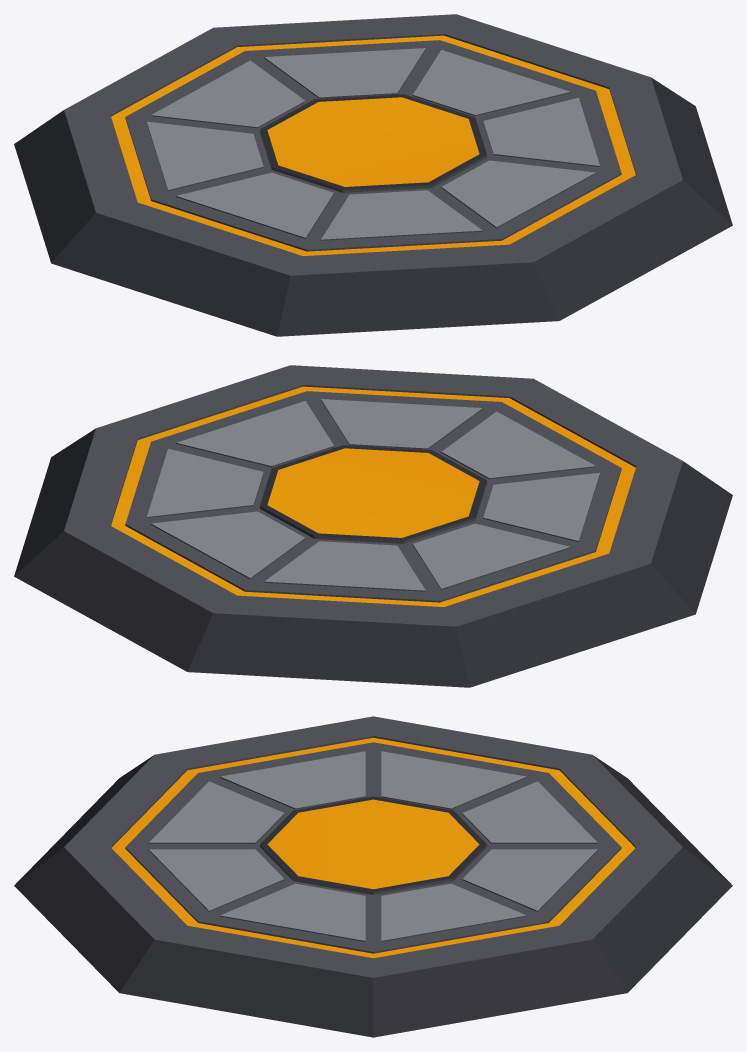
File: SpaceShipBase_01.glb
3 renders of one model, top to bottom at view 1: azimuth 30°, elevation 25°; view 2: azimuth 150°, elevation 25°; view 3: azimuth 270°, elevation 25°, orthographic. The views are drawn at different scales.
Visible parts, largest first — view 1: SpaceShipBase_01; view 2: SpaceShipBase_01; view 3: SpaceShipBase_01.
Part boxes in pixels (left/top/right/bottom): SpaceShipBase_01: left=14, top=14, right=732, bottom=336; SpaceShipBase_01: left=14, top=365, right=732, bottom=687; SpaceShipBase_01: left=14, top=716, right=732, bottom=1037.
Size of what is drawn, in the model's own units: 14.62 by 0.9258 by 14.62.
1 material, 1 textured.
